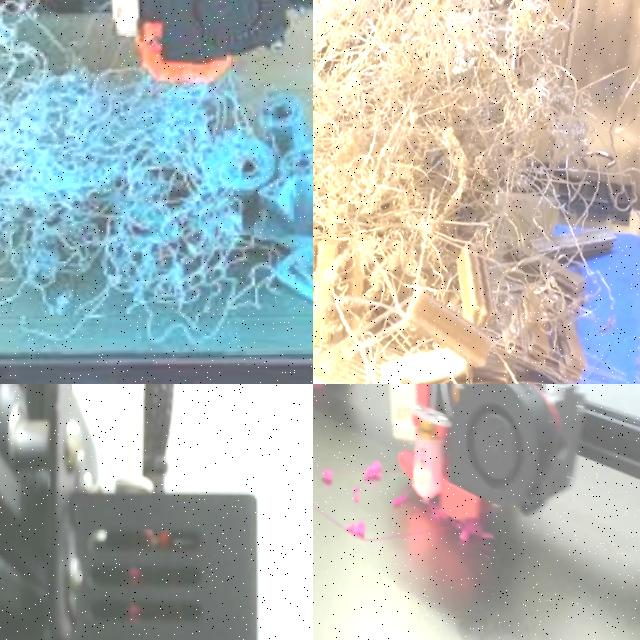spaghetti: (313, 0, 640, 384), (0, 25, 233, 317), (313, 504, 421, 541), (451, 519, 492, 542), (428, 503, 451, 520), (364, 460, 381, 479), (392, 493, 408, 507), (321, 470, 333, 484), (353, 487, 359, 499)
